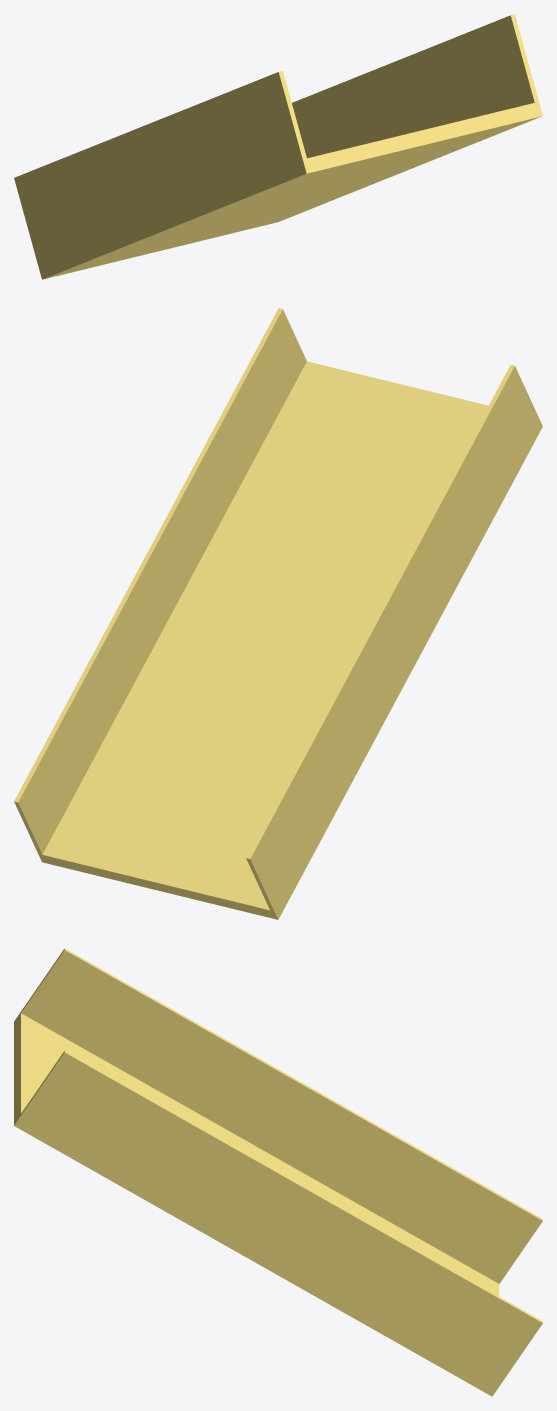
File: climb-1.glb
3 views of the same model, one above another, from view 1: azimuth 30°, elevation 25°; view 2: azimuth 150°, elevation 25°; view 3: azimuth 270°, elevation 25° (orthographic). The views are drawn at different scales.
Parts seen in each view (by area): view 1: climb-1; view 2: climb-1; view 3: climb-1.
Boxes of the visible parts, bbox=[...] form: climb-1: bbox=[14, 14, 542, 279]; climb-1: bbox=[14, 308, 542, 919]; climb-1: bbox=[14, 948, 542, 1396].
Size of the model in its own units: 3.3 by 5.09 by 7.08.
